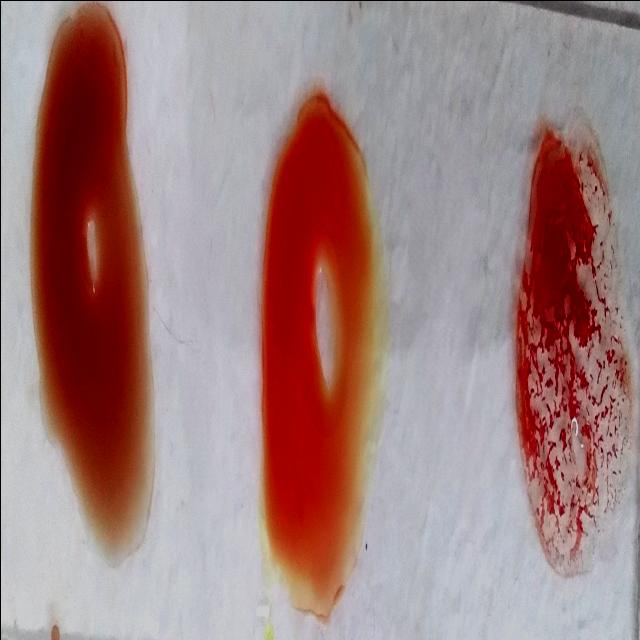D: (519, 117, 633, 568)
